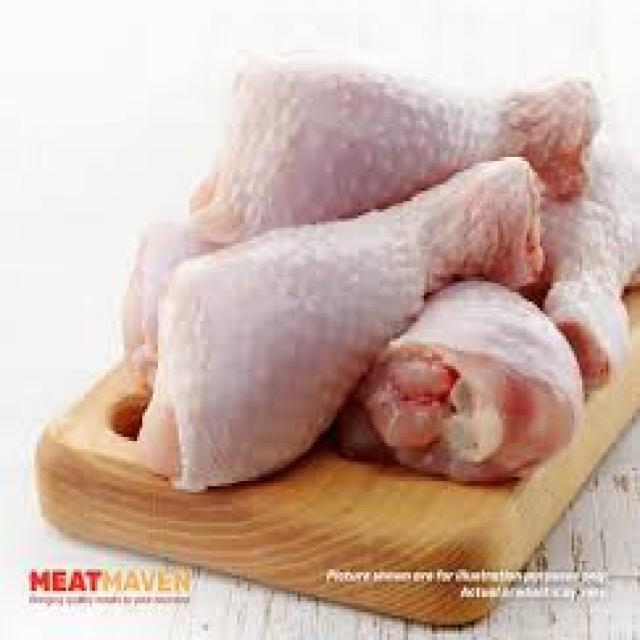leg: (145, 160, 540, 478), (198, 42, 586, 226), (393, 271, 574, 495)
